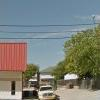Tree: (54, 15, 97, 71)
